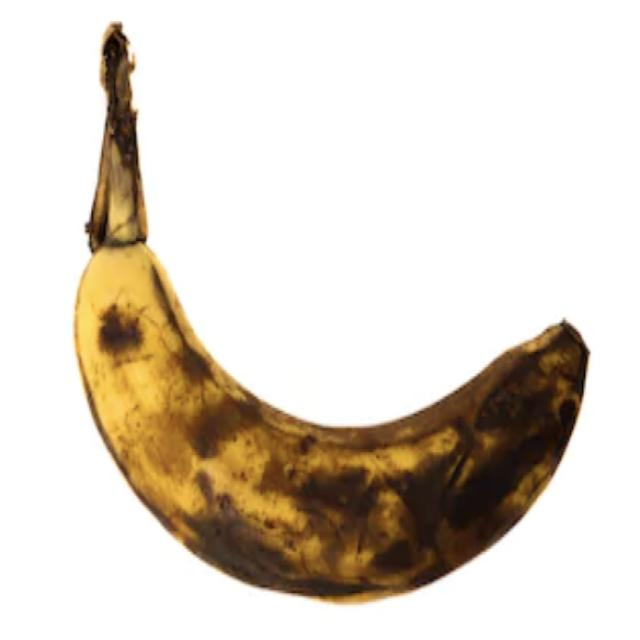rotten-banana: (71, 18, 591, 604)
